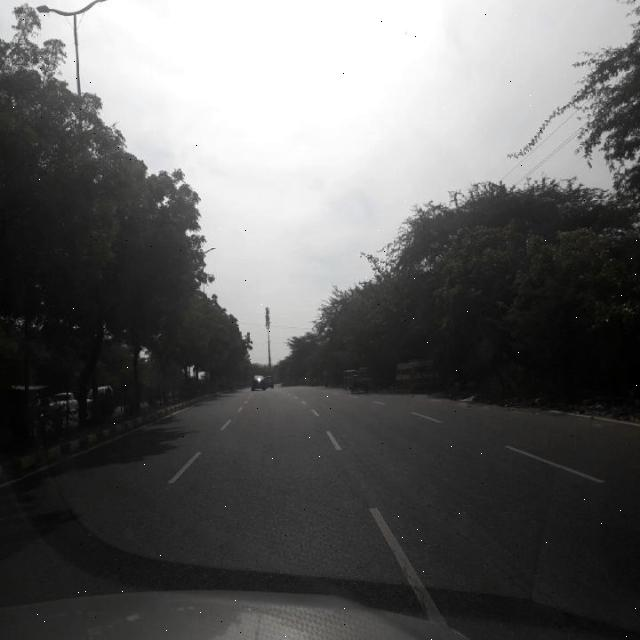D00: (430, 492, 572, 630), (400, 551, 437, 624)
